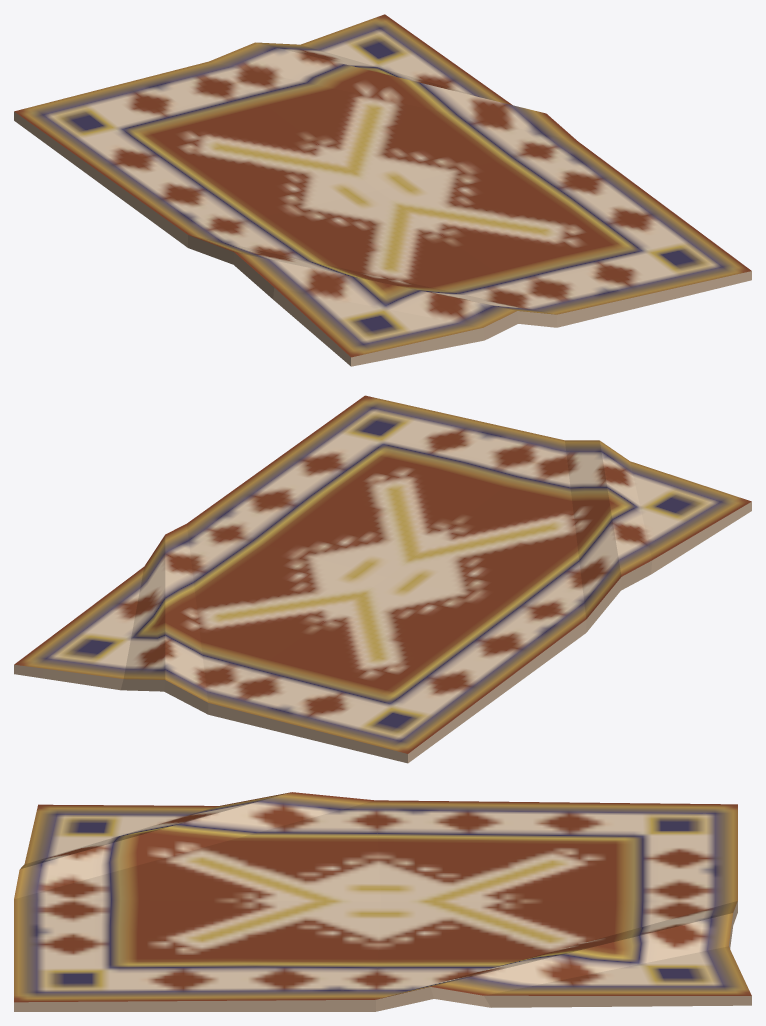
The model's file is SM_Prop_Rug_17.glb.
3 views of the same model, one above another, from view 1: azimuth 30°, elevation 25°; view 2: azimuth 150°, elevation 25°; view 3: azimuth 270°, elevation 25° (orthographic). The views are drawn at different scales.
Parts seen in each view (by area): view 1: SM_Prop_Rug_17; view 2: SM_Prop_Rug_17; view 3: SM_Prop_Rug_17.
Boxes of the visible parts, x1=… form: SM_Prop_Rug_17: x1=14, y1=14, x2=751, y2=366; SM_Prop_Rug_17: x1=14, y1=395, x2=751, y2=763; SM_Prop_Rug_17: x1=14, y1=792, x2=751, y2=1011.
Size of the model in its own units: 1.48 by 0.0908 by 2.33.
Materials: 1 (1 with a texture image).
